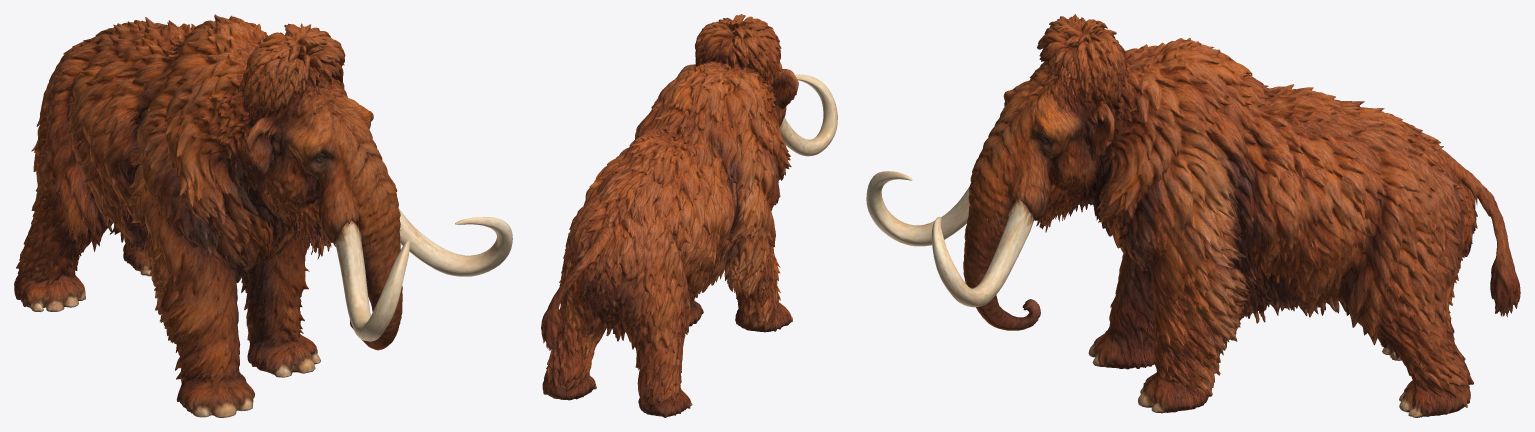
Rendered from preview.glb.
The picture shows the model from 3 angles, left to right: view 1: azimuth 30°, elevation 25°; view 2: azimuth 150°, elevation 25°; view 3: azimuth 270°, elevation 25°; orthographic projection. The views are drawn at different scales.
Visible parts, largest first — view 1: mammoth; view 2: mammoth; view 3: mammoth.
Part boxes in pixels (x1,y1,x2,y2): mammoth: (14,14,512,417); mammoth: (541,14,837,417); mammoth: (866,14,1520,417).
Size of the model in its own units: 2.59 by 3.67 by 6.
1 material, 1 textured.
